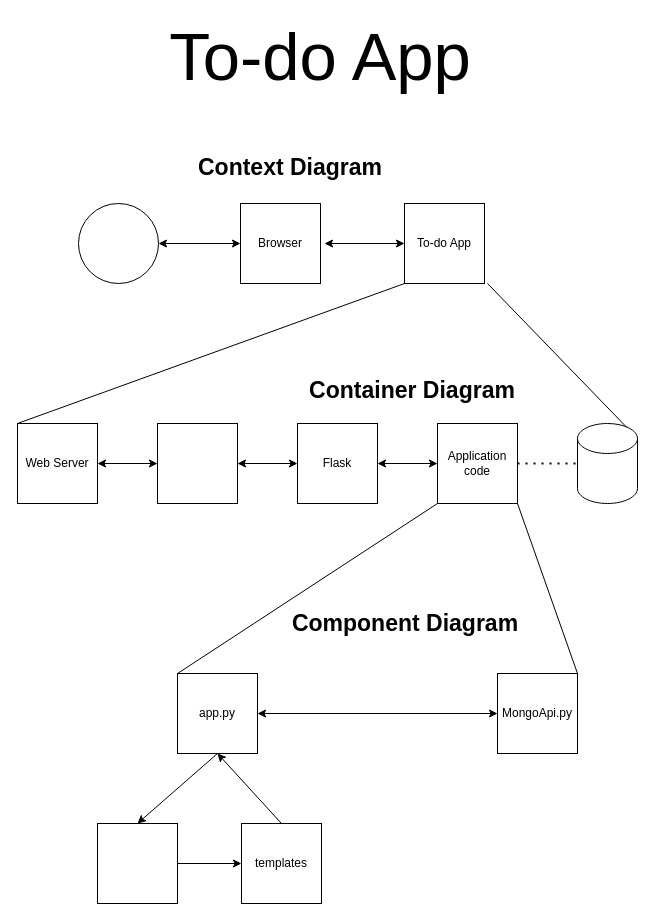
Image size: 656x921. Some labels were removed from this diagram. The centre of each missing label's shape, as x and y in pixels:
"GUnicorn" goes at pixel 197 463.
"MongoDB" goes at pixel 607 463.
"User" goes at pixel 118 243.
"viewModels" goes at pixel 137 863.
